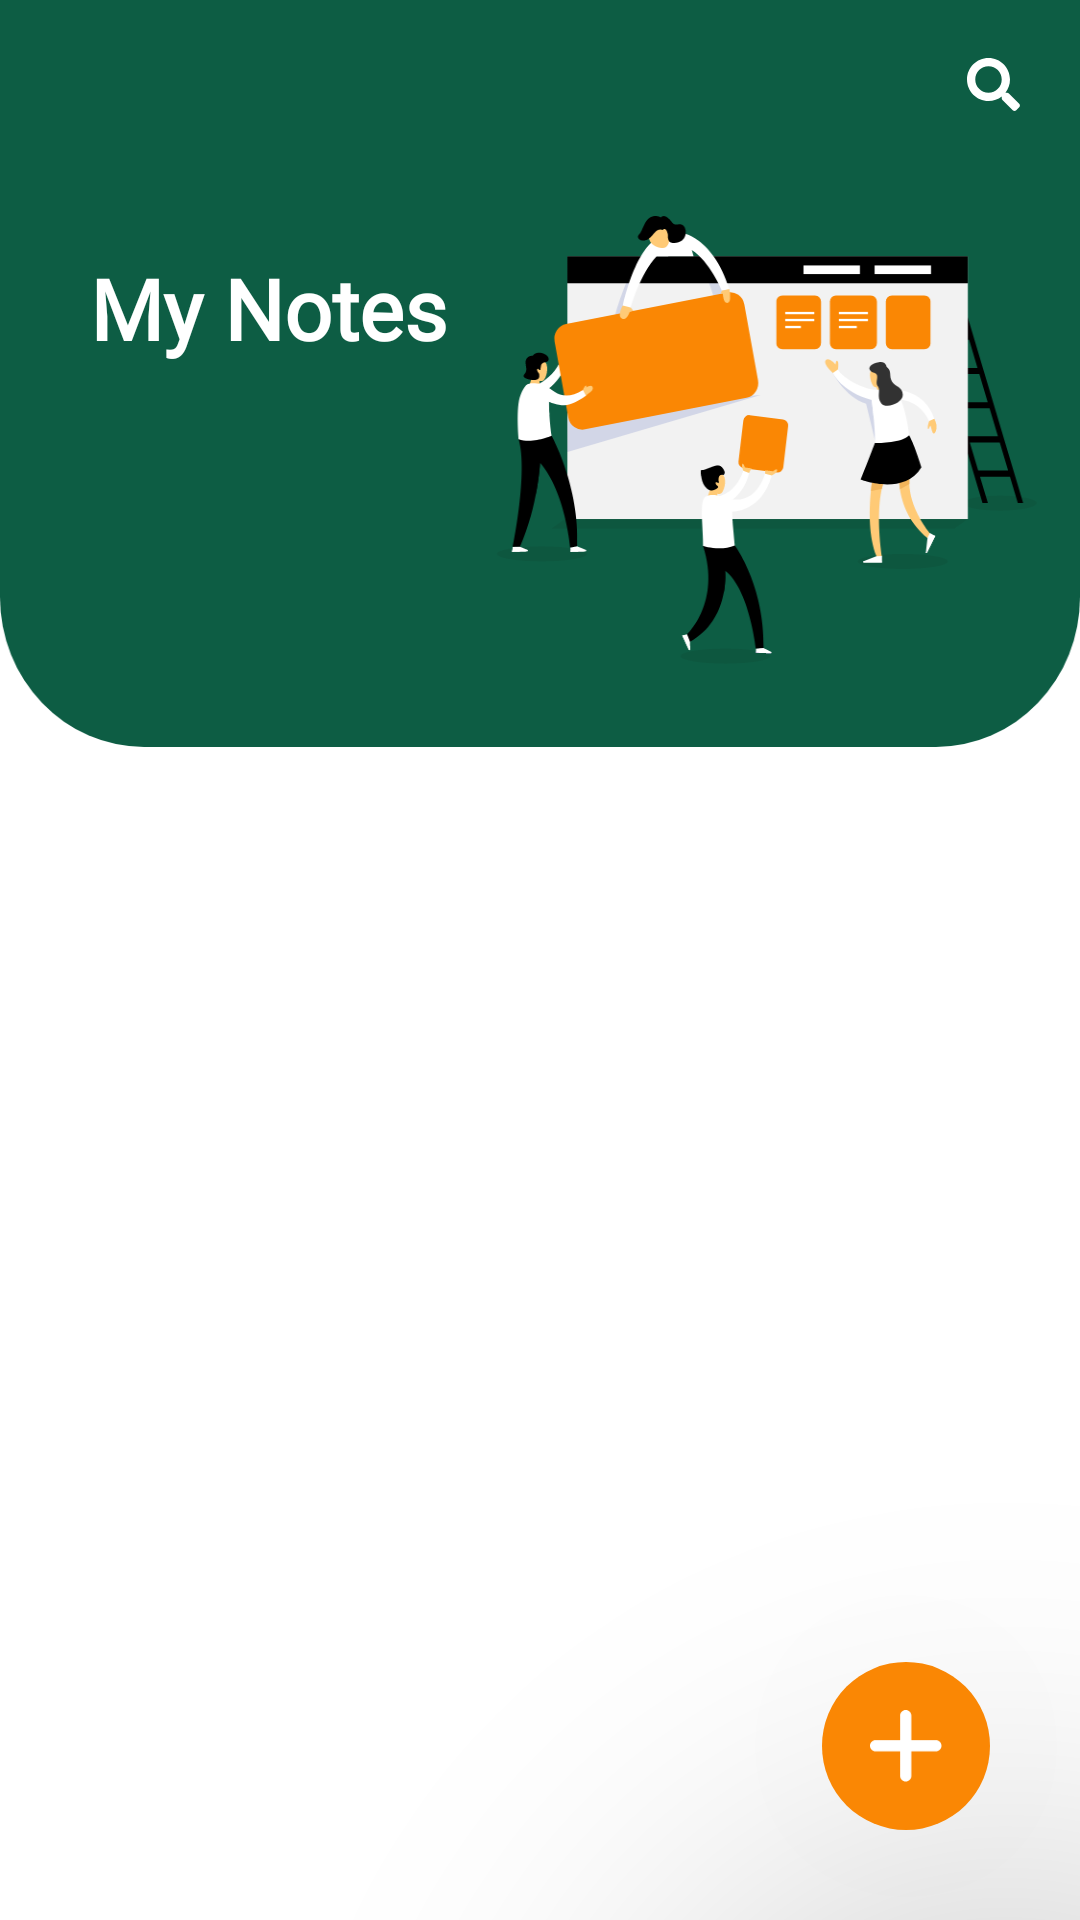

Where icons sit on this 1080×1920 app screen, as bbox(x1, y1, x2, y2):
plus sign: bbox(822, 1662, 990, 1830)
search: bbox(967, 58, 1020, 111)
